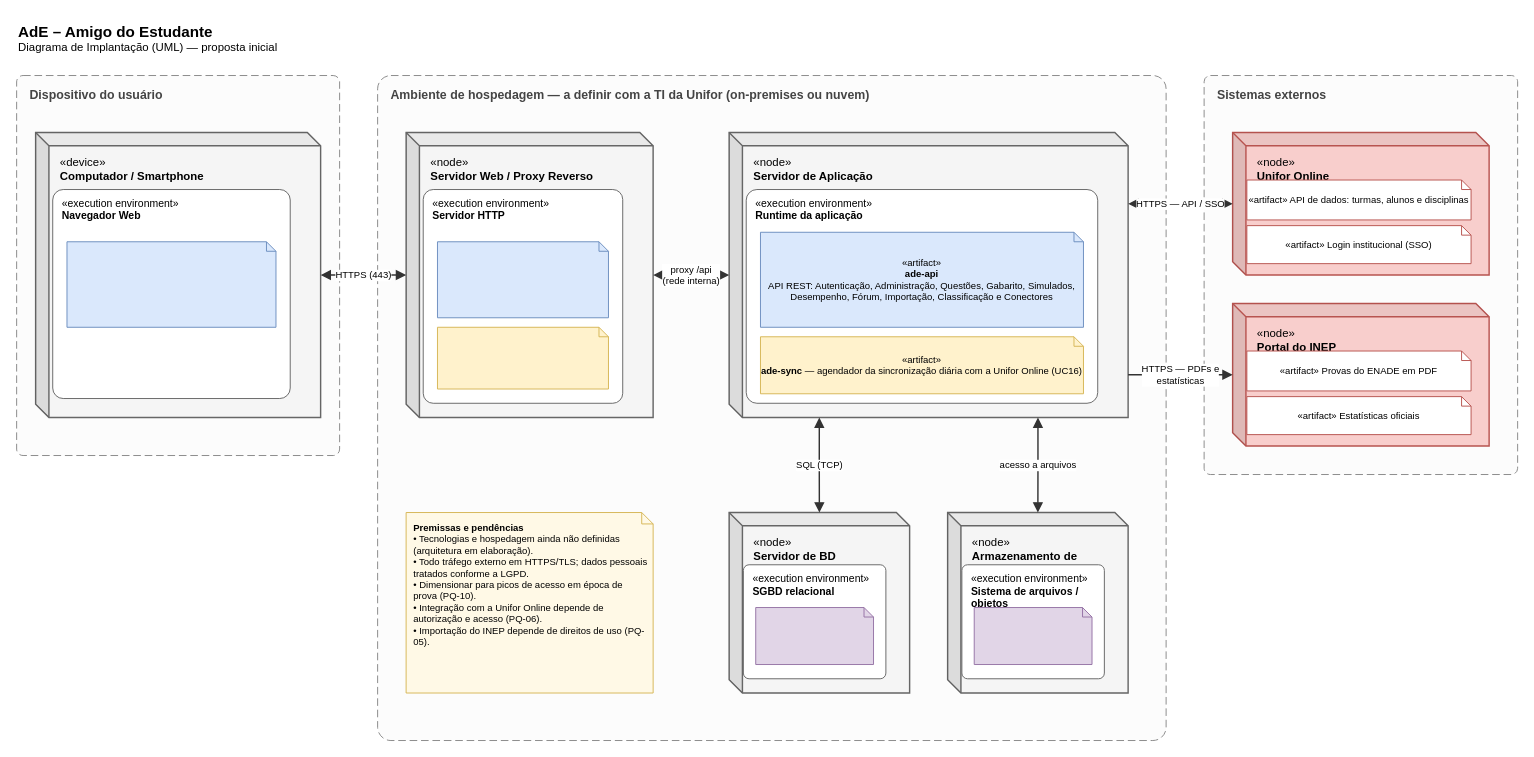
The diagram is 1534 pixels wide and 757 high, and some of its shapes have lost their labels. Each missing label, with the centre of its shape:
"«artifact» ade-web SPA carregada no navegador (HTML, JS, CSS)" belongs at pixel 171 284.
"«artifact» ade-web SPA estática (build)" belongs at pixel 522 279.
"«artifact» ade_db esquema relacional" belongs at pixel 814 636.
"«artifact» Certificado TLS e regras de roteamento /api" belongs at pixel 522 357.
"«artifact» provas e anexos PDFs e imagens" belongs at pixel 1032 636.
